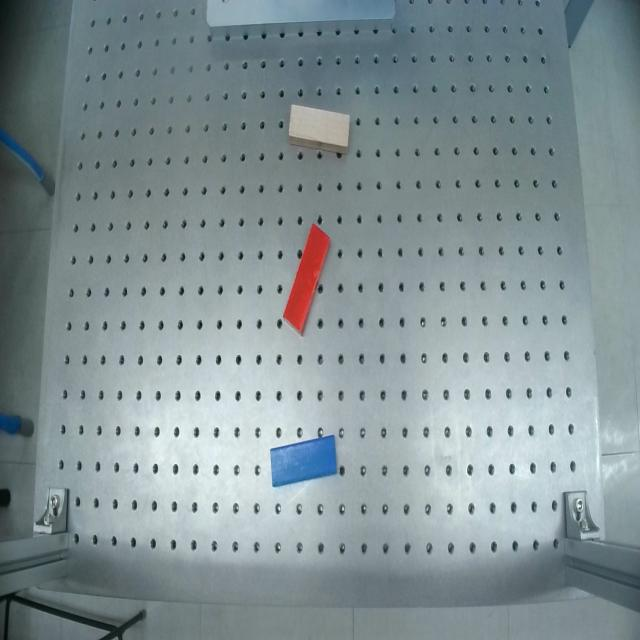blue: (264, 435, 342, 488)
red: (278, 222, 336, 337)
wood: (285, 105, 355, 155)
